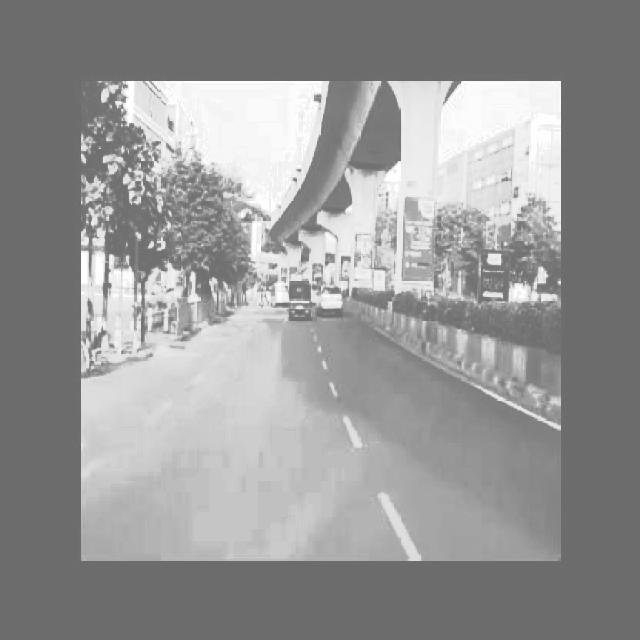Car: (320, 275, 348, 321), (274, 271, 291, 308)
